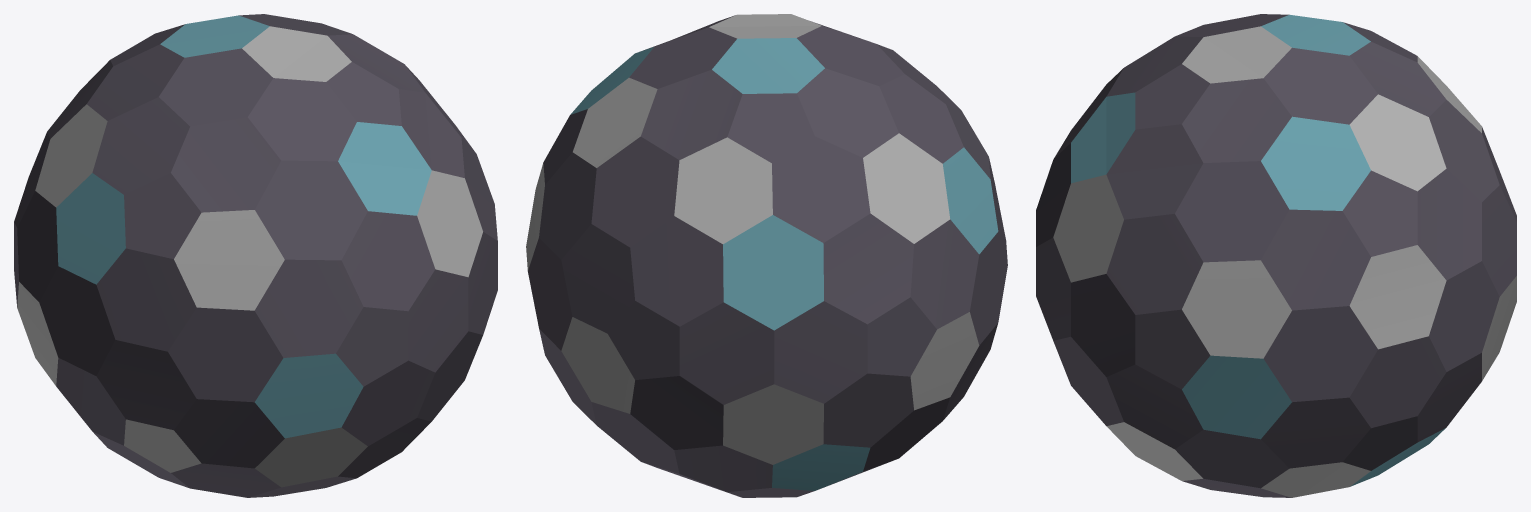
The model's file is Hexphere_V3.fbx.
The picture shows the model from 3 angles, left to right: view 1: azimuth 30°, elevation 25°; view 2: azimuth 150°, elevation 25°; view 3: azimuth 270°, elevation 25°; orthographic projection.
Visible parts, largest first — view 1: Face_Mesh_1, Face_Mesh_2, Face_Mesh_3; view 2: Face_Mesh_1, Face_Mesh_2, Face_Mesh_3; view 3: Face_Mesh_1, Face_Mesh_2, Face_Mesh_3.
Boxes of the visible parts, <box> form: Face_Mesh_1: <box>14,14,497,497</box>; Face_Mesh_2: <box>17,26,482,487</box>; Face_Mesh_3: <box>56,15,431,438</box>; Face_Mesh_1: <box>528,15,1007,497</box>; Face_Mesh_2: <box>526,14,979,464</box>; Face_Mesh_3: <box>570,38,998,490</box>; Face_Mesh_1: <box>1036,14,1516,497</box>; Face_Mesh_2: <box>1053,26,1516,497</box>; Face_Mesh_3: <box>1071,14,1445,486</box>.
Size of the model in its own units: 241 by 239 by 238.
